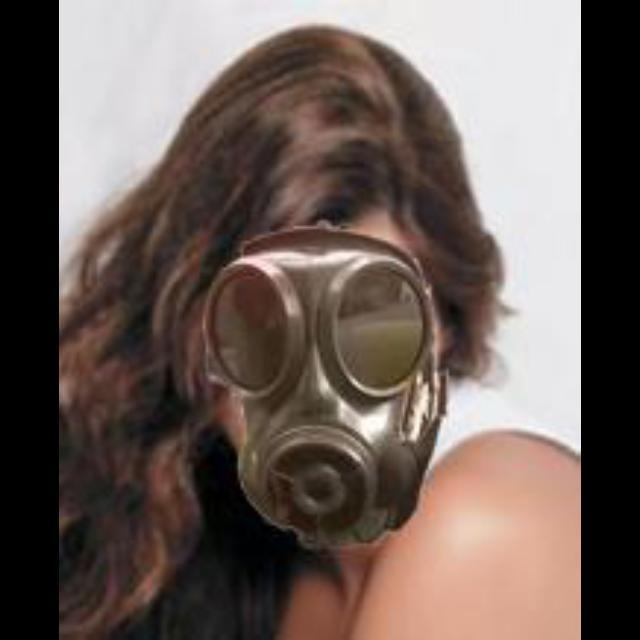suspicion: (234, 93, 476, 562)
